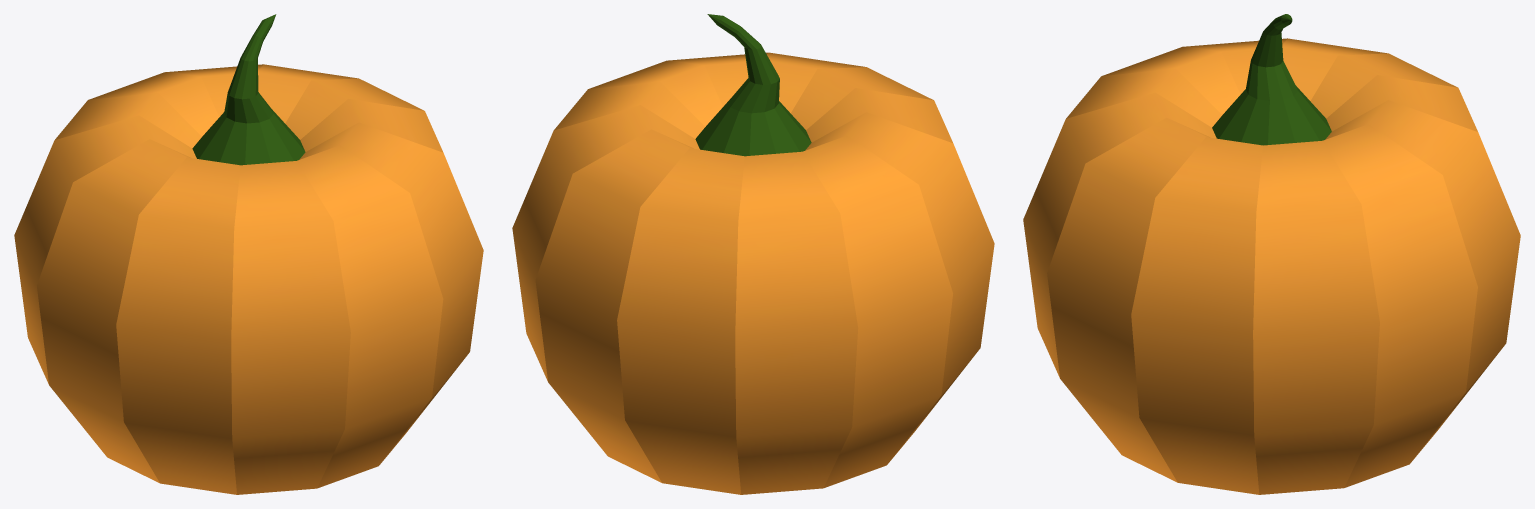
The model's file is Ovosh.fbx.
3 renders of one model, left to right at view 1: azimuth 30°, elevation 25°; view 2: azimuth 150°, elevation 25°; view 3: azimuth 270°, elevation 25°, orthographic. The views are drawn at different scales.
Visible parts, largest first — view 1: Ovosh; view 2: Ovosh; view 3: Ovosh.
Part boxes in pixels (<box>): Ovosh: <box>14,14,483,494</box>; Ovosh: <box>512,14,994,494</box>; Ovosh: <box>1023,14,1520,494</box>.
Bounding box in the file's own units: 0.4313 × 0.4388 × 0.4313.
